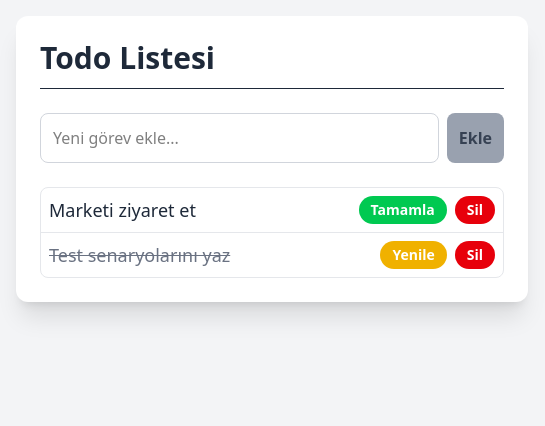
template spec › Aynı görev tekrar eklenebiliyor mu
Type "Fatura edemesin yapıldı" into the field with test id "new-todo-input" at coordinates (240, 138), box [40,113,439,163]
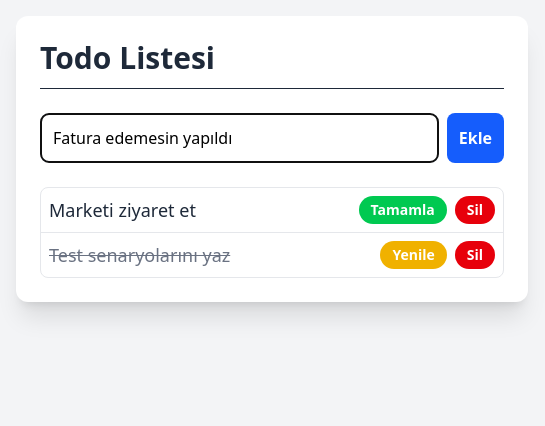
Click the button with test id "add-todo-button" at coordinates (476, 138), box [447,113,504,163]
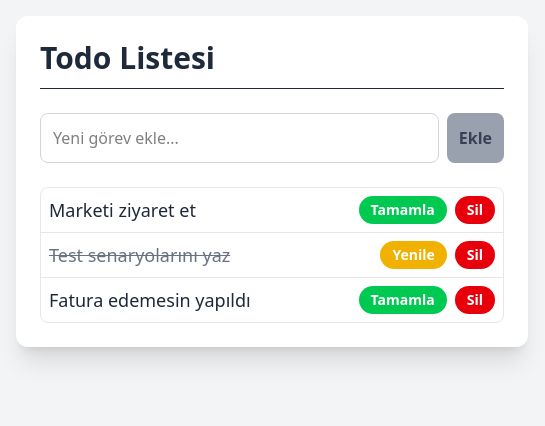
Type "Fatura edemesin yapıldı" into the field with test id "new-todo-input" at coordinates (240, 138), box [40,113,439,163]
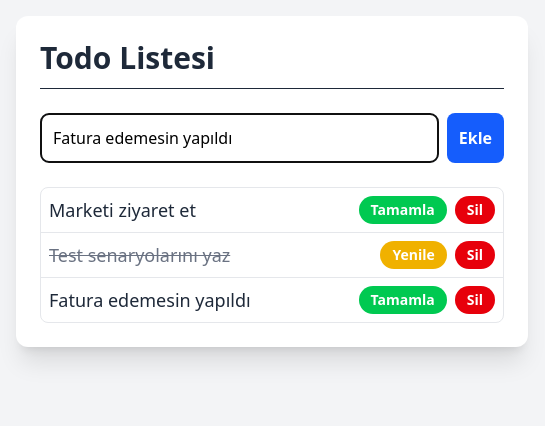
Click the button with test id "add-todo-button" at coordinates (476, 138), box [447,113,504,163]
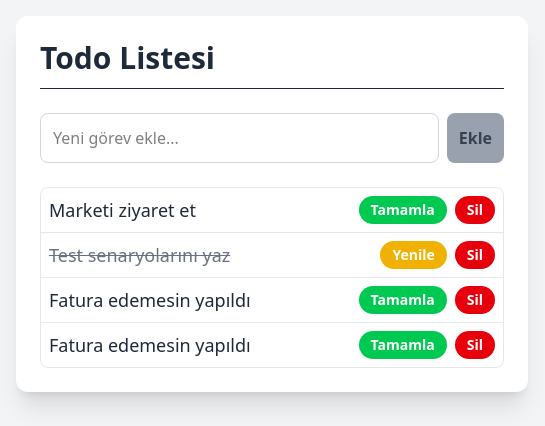
expect the number of list items is 4: met, box [41,188,503,233]; [41,233,503,278]; [41,278,503,323]; [41,323,503,367]
